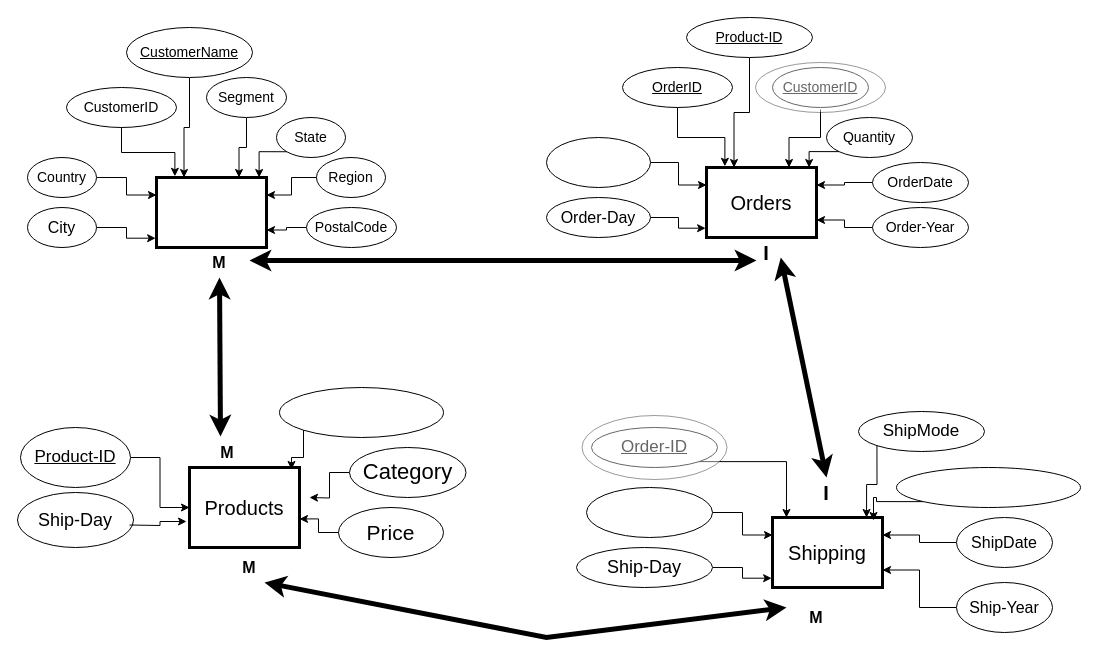
Image size: 1098x666. Some labels were removed from this diagram. The centre of each missing label's shape, as x and y in pixels:
"Customers" belongs at pixel 211 212.
"Order-Month" belongs at pixel 598 162.
"ProductName" belongs at pixel 361 412.
"Ship-Duration (Days)" belongs at pixel 988 487.
"Ship-Month" belongs at pixel 649 512.
